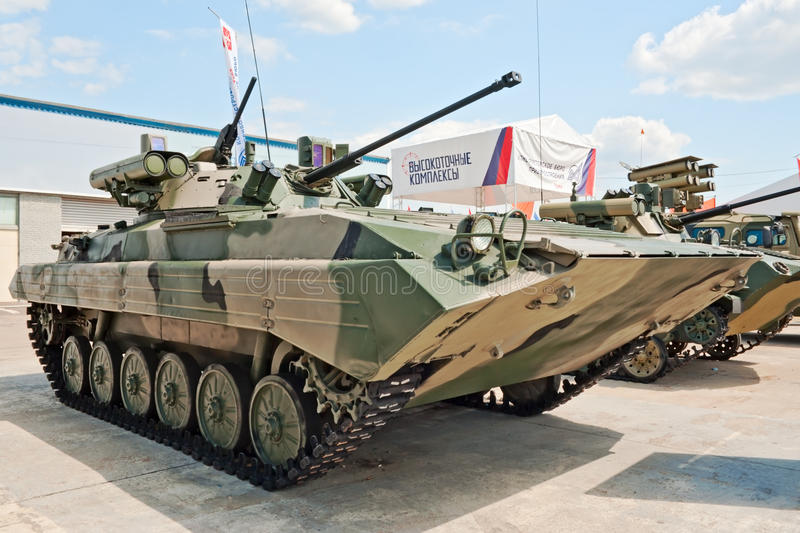bmp1: (17, 118, 741, 491)
